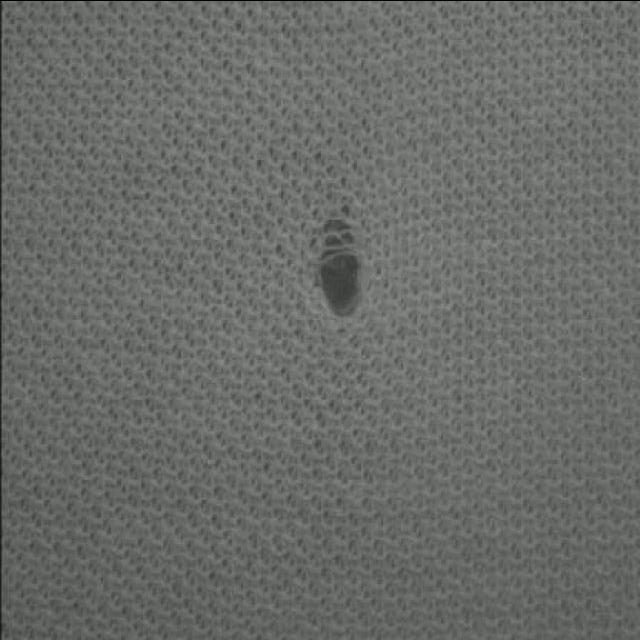hole: (307, 208, 375, 328)
